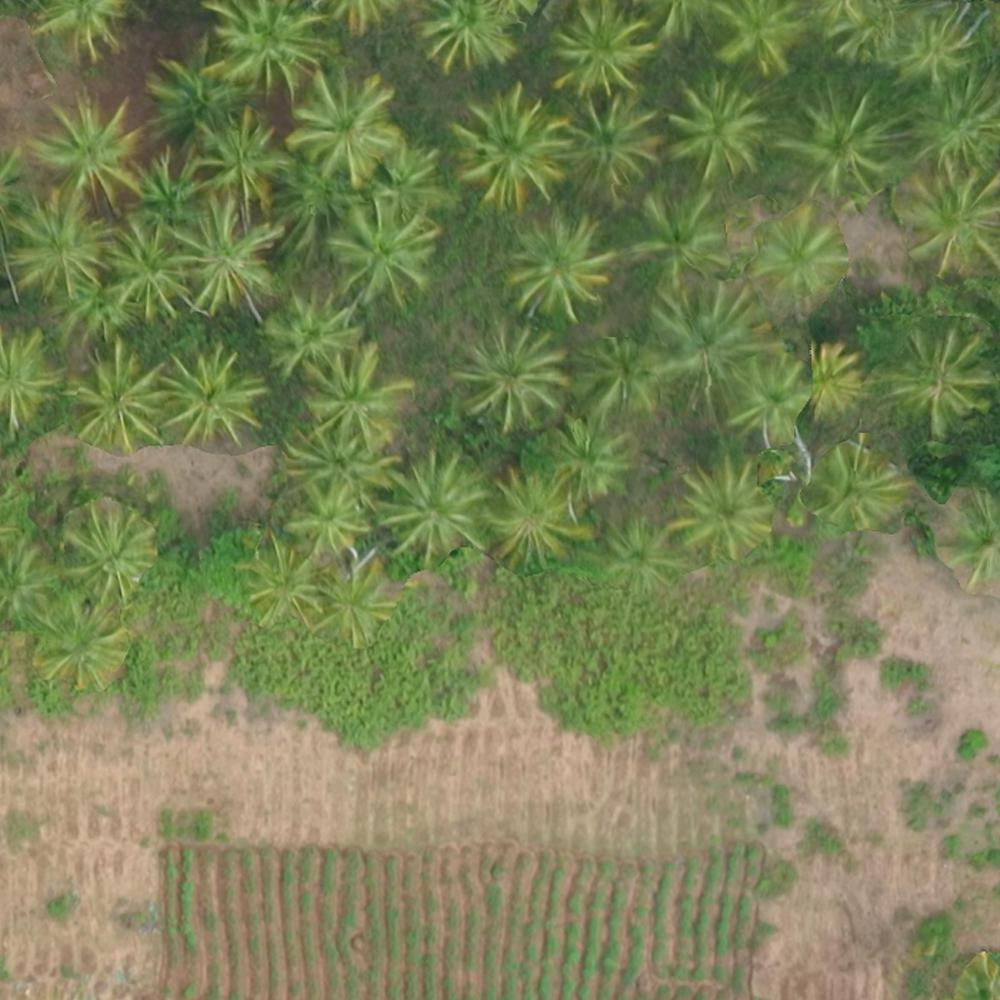Palm: (642, 283, 779, 385), (29, 95, 148, 211), (781, 82, 894, 197), (450, 90, 568, 200), (206, 1, 331, 93), (181, 200, 278, 317), (299, 348, 409, 451), (459, 322, 564, 429), (67, 343, 171, 447), (293, 73, 397, 174), (893, 326, 993, 431), (9, 194, 107, 300), (335, 194, 435, 297), (158, 349, 266, 444), (387, 452, 486, 555), (900, 169, 1000, 270), (483, 466, 586, 563), (510, 212, 609, 312), (664, 82, 768, 176), (284, 416, 391, 506), (549, 2, 652, 94), (194, 109, 291, 206), (563, 92, 659, 190), (633, 188, 732, 283), (60, 505, 157, 601), (96, 228, 194, 323), (678, 462, 772, 559), (264, 286, 357, 380), (908, 73, 1000, 166), (809, 441, 900, 534), (753, 206, 843, 297), (884, 2, 985, 82), (35, 598, 127, 685), (237, 536, 326, 624), (141, 58, 237, 136), (415, 1, 519, 73), (276, 157, 366, 240), (127, 146, 212, 232), (719, 359, 804, 445), (310, 560, 398, 642), (709, 1, 803, 77), (284, 479, 371, 557), (574, 335, 658, 415), (597, 515, 684, 592), (550, 415, 629, 494), (936, 489, 1000, 582), (813, 2, 902, 68), (1, 336, 67, 424), (366, 141, 444, 215), (41, 1, 130, 65), (801, 341, 866, 421)
